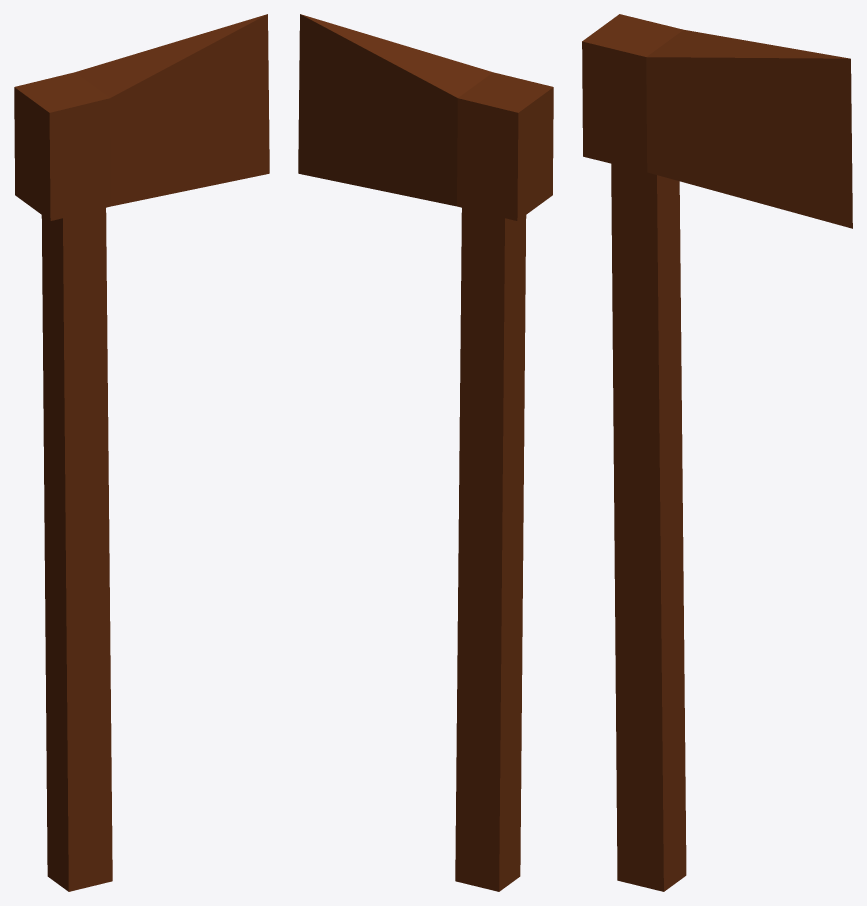
File: axe.fbx
The picture shows the model from 3 angles, left to right: view 1: azimuth 30°, elevation 25°; view 2: azimuth 150°, elevation 25°; view 3: azimuth 330°, elevation 25°; orthographic projection. The views are drawn at different scales.
Parts seen in each view (by area): view 1: huitugou_2263_38; view 2: huitugou_2263_38; view 3: huitugou_2263_38.
Boxes of the visible parts, box(x1,y1,x2,y2) form: huitugou_2263_38: box(14, 14, 269, 891); huitugou_2263_38: box(298, 14, 553, 891); huitugou_2263_38: box(582, 14, 852, 891).
Size of the model in its own units: 30.65 by 119 by 391.
